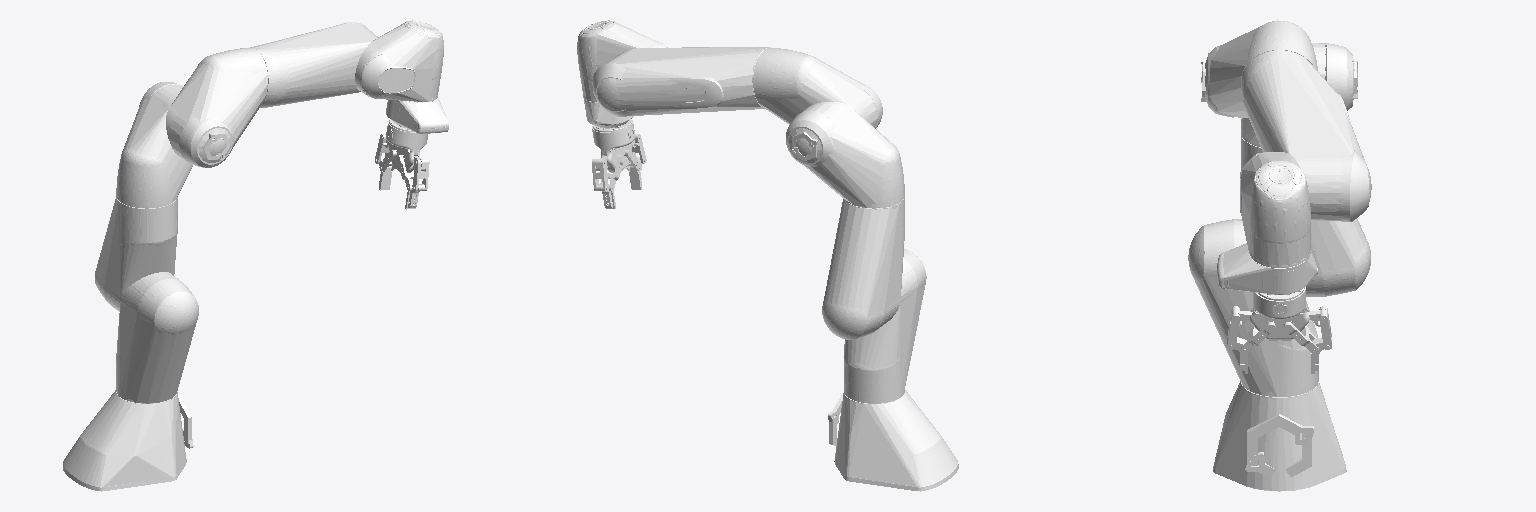
--- Render facts (derived) ---
Views: 3 orthographic renders of the robot side by side, from view 1: azimuth 30°, elevation 25°; view 2: azimuth 150°, elevation 25°; view 3: azimuth 270°, elevation 25°.
Model converted_robot with 29 links and 28 joints (7 revolute, 21 fixed), rooted at panda0_link0, posed joints at zero except 1 at the middle of their limits (panda0_joint4 = -1.74).
Links seen in each view (by area): view 1: panda0_link0, panda0_link1, panda0_link4, panda0_link5, panda0_link3, panda0_link2, panda0_link6, panda0_link7, robotiq_2f_85; view 2: panda0_link5, panda0_link0, panda0_link2, panda0_link3, panda0_link1, panda0_link4, panda0_link6, robotiq_2f_85, panda0_link7; view 3: panda0_link5, panda0_link0, panda0_link1, panda0_link6, panda0_link4, panda0_link2, panda0_link7, panda0_link3, robotiq_2f_85, robotiq_2f_85_right_driver, robotiq_2f_85_left_driver.
Boxes of the visible links, x1,y1,x2,y2 form: panda0_link0: (63,390,193,491); panda0_link1: (116,272,198,403); panda0_link4: (166,48,267,167); panda0_link5: (250,22,377,107); panda0_link3: (116,82,192,208); panda0_link2: (95,197,177,311); panda0_link6: (355,20,443,101); panda0_link7: (386,98,448,133); robotiq_2f_85: (386,119,427,172); panda0_link5: (592,47,769,116); panda0_link0: (828,390,958,491); panda0_link2: (822,198,904,339); panda0_link3: (786,102,904,208); panda0_link1: (844,249,926,403); panda0_link4: (753,47,882,128); panda0_link6: (577,20,667,101); robotiq_2f_85: (592,119,634,172); panda0_link7: (583,97,633,127); panda0_link5: (1241,50,1371,221); panda0_link0: (1213,381,1346,491); panda0_link1: (1188,219,1318,396); panda0_link6: (1240,152,1310,267); panda0_link4: (1201,20,1317,117); panda0_link2: (1241,136,1370,296); panda0_link7: (1217,243,1317,294); panda0_link3: (1241,43,1357,146); robotiq_2f_85: (1250,287,1309,340); robotiq_2f_85_right_driver: (1227,306,1252,349); robotiq_2f_85_left_driver: (1307,306,1331,349).
Bounding box of the posed robot: 0.7638 × 0.2593 × 0.7695 m (x, y, z).
35 mesh visuals loaded from 27 distinct referenced files (27 binary STL).

URDF robot description (converted_robot):
<?xml version="1.0" ?>
<robot name="converted_robot">
   <!--generated with mjcf_urdf_simple_converter (https://github.com/Yasu31/mjcf_urdf_simple_converter)-->
   <link name="panda0_link0">
      <inertial>
         <origin xyz="-0.029189765433072147 -0.0008794649788944781 0.0566031915141631" rpy="0.07341050648529257 -1.1999954549116758 3.0813768508296935"/>
         <mass value="2.91242"/>
         <inertia ixx="0.012252747599100987" iyy="0.011363973543842151" izz="0.008277853958097102" ixy="0" ixz="0" iyz="0"/>
      </inertial>
      <visual name="link0_viz">
         <origin xyz="-0.021984847396766805 -0.0008896593739903566 0.05397633820753746" rpy="0.0005388346167558566 -1.2165331197244809 -3.1263967787637412"/>
         <geometry>
            <mesh filename="../panda_meshes/converted_link0_viz.stl"/>
         </geometry>
         <material name="white"/>
      </visual>
      <visual name="link0_col">
         <origin xyz="-0.029189765433072147 -0.0008794649788944781 0.0566031915141631" rpy="0.07341050648529257 -1.1999954549116756 3.0813768508296935"/>
         <geometry>
            <mesh filename="../panda_meshes/converted_link0_col.stl"/>
         </geometry>
         <material name="white"/>
      </visual>
   </link>
   <link name="panda0_link1">
      <inertial>
         <origin xyz="1.139898131675401e-05 -0.03126552803743275 -0.06937330598619522" rpy="0.3507575596779383 -0.00032182734340535646 0.0006491282822314315"/>
         <mass value="2.7063"/>
         <inertia ixx="0.016028532125252317" iyy="0.015027567082764292" izz="0.0053318324257230895" ixy="0" ixz="0" iyz="0"/>
      </inertial>
      <visual name="link1_viz">
         <origin xyz="2.2333099850851852e-06 -0.03247938383820199 -0.06757587010715757" rpy="0.38337047278479996 0.00013917529691687136 -0.00037583015721226465"/>
         <geometry>
            <mesh filename="../panda_meshes/converted_link1_viz.stl"/>
         </geometry>
         <material name="white"/>
      </visual>
      <visual name="link1_col">
         <origin xyz="1.139898131675401e-05 -0.03126552803743275 -0.06937330598619522" rpy="0.3507575596779383 -0.00032182734340535646 0.0006491282822314315"/>
         <geometry>
            <mesh filename="../panda_meshes/converted_link1_col.stl"/>
         </geometry>
         <material name="white"/>
      </visual>
   </link>
   <link name="panda0_joint1_jointbody">
      <inertial>
         <origin xyz="0.0 0.0 0.0" rpy="0.0 0.0 0.0"/>
         <mass value="0.001"/>
         <inertia ixx="1e-09" iyy="1e-09" izz="1e-09" ixy="0" ixz="0" iyz="0"/>
      </inertial>
   </link>
   <joint type="revolute" name="panda0_joint1">
      <parent link="panda0_link0"/>
      <child link="panda0_joint1_jointbody"/>
      <origin xyz="0.0 0.0 0.333" rpy="0.0 0.0 0.0"/>
      <axis xyz="0.0 0.0 1.0"/>
      <limit lower="-2.8973" upper="2.8973" effort="87" velocity="2.1750"/>
   </joint>
   <joint type="fixed" name="panda0_joint1_offset">
      <parent link="panda0_joint1_jointbody"/>
      <child link="panda0_link1"/>
      <origin xyz="-0.0 -0.0 -0.0" rpy="0.0 0.0 0.0"/>
   </joint>
   <link name="panda0_link2">
      <inertial>
         <origin xyz="-1.3176553398219796e-05 -0.07032155252075616 0.031178239145109848" rpy="1.9167766250212852 3.863386533176083e-05 -0.00017520097652501398"/>
         <mass value="2.73046"/>
         <inertia ixx="0.016372443569979776" iyy="0.015352789885543734" izz="0.005393701000602283" ixy="0" ixz="0" iyz="0"/>
      </inertial>
      <visual name="link2_viz">
         <origin xyz="3.0683216894497734e-06 -0.06860273544627478 0.03220972526329134" rpy="1.9510753664554936 -0.0003840755309343358 -0.00012992900913055827"/>
         <geometry>
            <mesh filename="../panda_meshes/converted_link2_viz.stl"/>
         </geometry>
         <material name="white"/>
      </visual>
      <visual name="link2_col">
         <origin xyz="-1.3176553398219796e-05 -0.07032155252075616 0.031178239145109848" rpy="1.9167766250212854 3.8633865331982875e-05 -0.00017520097652501398"/>
         <geometry>
            <mesh filename="../panda_meshes/converted_link2_col.stl"/>
         </geometry>
         <material name="white"/>
      </visual>
   </link>
   <link name="panda0_joint2_jointbody">
      <inertial>
         <origin xyz="0.0 0.0 0.0" rpy="0.0 0.0 0.0"/>
         <mass value="0.001"/>
         <inertia ixx="1e-09" iyy="1e-09" izz="1e-09" ixy="0" ixz="0" iyz="0"/>
      </inertial>
   </link>
   <joint type="revolute" name="panda0_joint2">
      <parent link="panda0_link1"/>
      <child link="panda0_joint2_jointbody"/>
      <origin xyz="0.0 0.0 0.0" rpy="-1.5707963267948957 0.0 0.0"/>
      <axis xyz="0.0 0.0 1.0"/>
      <limit lower="-1.7628" upper="1.7628" effort="87" velocity="2.1750"/>
   </joint>
   <joint type="fixed" name="panda0_joint2_offset">
      <parent link="panda0_joint2_jointbody"/>
      <child link="panda0_link2"/>
      <origin xyz="-0.0 -0.0 -0.0" rpy="0.0 0.0 0.0"/>
   </joint>
   <link name="panda0_link3">
      <inertial>
         <origin xyz="0.04434830616977217 0.02492832585533832 -0.038129984535498415" rpy="0.6264281539686369 -0.6489124028865899 2.7888150643653677"/>
         <mass value="2.04104"/>
         <inertia ixx="0.008704799647862464" iyy="0.008526189975065757" izz="0.003659192966081935" ixy="0" ixz="0" iyz="0"/>
      </inertial>
      <visual name="link3_viz">
         <origin xyz="0.04853890609499807 0.03426551671468284 -0.031158988253545027" rpy="0.5620645638906847 -0.7724060532253757 3.0330843961200182"/>
         <geometry>
            <mesh filename="../panda_meshes/converted_link3_viz.stl"/>
         </geometry>
         <material name="white"/>
      </visual>
      <visual name="link3_dark_viz">
         <origin xyz="0.07826594887105137 0.08142974519737879 -0.00406312503726814" rpy="0.9103914044624806 0.05315688187292977 1.6361660028735399"/>
         <geometry>
            <mesh filename="../panda_meshes/converted_link3_dark_viz.stl"/>
         </geometry>
         <material name="white"/>
      </visual>
      <visual name="link3_col">
         <origin xyz="0.04434830616977217 0.02492832585533832 -0.038129984535498415" rpy="0.6264281539686367 -0.6489124028865898 2.788815064365368"/>
         <geometry>
            <mesh filename="../panda_meshes/converted_link3_col.stl"/>
         </geometry>
         <material name="white"/>
      </visual>
   </link>
   <link name="panda0_joint3_jointbody">
      <inertial>
         <origin xyz="0.0 0.0 0.0" rpy="0.0 0.0 0.0"/>
         <mass value="0.001"/>
         <inertia ixx="1e-09" iyy="1e-09" izz="1e-09" ixy="0" ixz="0" iyz="0"/>
      </inertial>
   </link>
   <joint type="revolute" name="panda0_joint3">
      <parent link="panda0_link2"/>
      <child link="panda0_joint3_jointbody"/>
      <origin xyz="0.0 -0.316 0.0" rpy="1.5707963267948963 0.0 0.0"/>
      <axis xyz="0.0 0.0 1.0"/>
      <limit lower="-2.8973" upper="2.8973" effort="87" velocity="2.1750"/>
   </joint>
   <joint type="fixed" name="panda0_joint3_offset">
      <parent link="panda0_joint3_jointbody"/>
      <child link="panda0_link3"/>
      <origin xyz="-0.0 -0.0 -0.0" rpy="0.0 0.0 0.0"/>
   </joint>
   <link name="panda0_link4">
      <inertial>
         <origin xyz="-0.038550294327056006 0.03952560974766748 0.024716241456280232" rpy="1.1575252530204931 0.36233734062035716 0.6286469250141417"/>
         <mass value="2.08129"/>
         <inertia ixx="0.009006880847790886" iyy="0.008831790803553114" izz="0.0037733476177690558" ixy="0" ixz="0" iyz="0"/>
      </inertial>
      <visual name="link4_viz">
         <origin xyz="-0.034582874588439914 0.03234212044021938 0.033850654593722634" rpy="1.0871199462729406 0.12778884236414356 0.7368487765625511"/>
         <geometry>
            <mesh filename="../panda_meshes/converted_link4_viz.stl"/>
         </geometry>
         <material name="white"/>
      </visual>
      <visual name="link4_dark_viz">
         <origin xyz="-0.005059102785114565 0.004050337360715577 0.08043076246399442" rpy="0.017273021275597378 -1.4866930441457151 2.4623856789347984"/>
         <geometry>
            <mesh filename="../panda_meshes/converted_link4_dark_viz.stl"/>
         </geometry>
         <material name="white"/>
      </visual>
      <visual name="link4_col">
         <origin xyz="-0.038550294327056006 0.03952560974766748 0.024716241456280232" rpy="1.1575252530204934 0.36233734062035716 0.6286469250141418"/>
         <geometry>
            <mesh filename="../panda_meshes/converted_link4_col.stl"/>
         </geometry>
         <material name="white"/>
      </visual>
   </link>
   <link name="panda0_joint4_jointbody">
      <inertial>
         <origin xyz="0.0 0.0 0.0" rpy="0.0 0.0 0.0"/>
         <mass value="0.001"/>
         <inertia ixx="1e-09" iyy="1e-09" izz="1e-09" ixy="0" ixz="0" iyz="0"/>
      </inertial>
   </link>
   <joint type="revolute" name="panda0_joint4">
      <parent link="panda0_link3"/>
      <child link="panda0_joint4_jointbody"/>
      <origin xyz="0.0825 0.0 0.0" rpy="1.5707963267948963 0.0 0.0"/>
      <axis xyz="0.0 0.0 1.0"/>
      <limit lower="-3.0718" upper="-0.4" effort="87" velocity="2.1750"/>
   </joint>
   <joint type="fixed" name="panda0_joint4_offset">
      <parent link="panda0_joint4_jointbody"/>
      <child link="panda0_link4"/>
      <origin xyz="-0.0 -0.0 -0.0" rpy="0.0 0.0 0.0"/>
   </joint>
   <link name="panda0_link5">
      <inertial>
         <origin xyz="-6.367762704756645e-05 0.03841237270479223 -0.10997017500559451" rpy="-0.27197776604413226 0.0020967099799318323 0.0011148540412214414"/>
         <mass value="3.00049"/>
         <inertia ixx="0.02618581046633134" iyy="0.02524217285800852" izz="0.005348180896198652" ixy="0" ixz="0" iyz="0"/>
      </inertial>
      <visual name="link5_viz">
         <origin xyz="-4.666435241145311e-05 0.052776968679302275 -0.09842004873748064" rpy="-0.2898827389028237 0.0013934871359873036 0.004714140157746488"/>
         <geometry>
            <mesh filename="../panda_meshes/converted_link5_viz.stl"/>
         </geometry>
         <material name="white"/>
      </visual>
      <visual name="link5_dark_viz">
         <origin xyz="-0.0001488770396455637 0.09673623430592755 -0.033143402548721564" rpy="0.0024935213048430382 0.0495754496836307 1.5665339126678446"/>
         <geometry>
            <mesh filename="../panda_meshes/converted_link5_dark_viz.stl"/>
         </geometry>
         <material name="white"/>
      </visual>
      <visual name="link5_col">
         <origin xyz="-6.367762704756645e-05 0.03841237270479223 -0.10997017500559451" rpy="-0.27197776604413215 0.0020967099799316102 0.0011148540412214136"/>
         <geometry>
            <mesh filename="../panda_meshes/converted_link5_col.stl"/>
         </geometry>
         <material name="white"/>
      </visual>
   </link>
   <link name="panda0_joint5_jointbody">
      <inertial>
         <origin xyz="0.0 0.0 0.0" rpy="0.0 0.0 0.0"/>
         <mass value="0.001"/>
         <inertia ixx="1e-09" iyy="1e-09" izz="1e-09" ixy="0" ixz="0" iyz="0"/>
      </inertial>
   </link>
   <joint type="revolute" name="panda0_joint5">
      <parent link="panda0_link4"/>
      <child link="panda0_joint5_jointbody"/>
      <origin xyz="-0.0825 0.384 0.0" rpy="-1.5707963267948957 0.0 0.0"/>
      <axis xyz="0.0 0.0 1.0"/>
      <limit lower="-2.8973" upper="2.8973" effort="12" velocity="2.6100"/>
   </joint>
   <joint type="fixed" name="panda0_joint5_offset">
      <parent link="panda0_joint5_jointbody"/>
      <child link="panda0_link5"/>
      <origin xyz="-0.0 -0.0 -0.0" rpy="0.0 0.0 0.0"/>
   </joint>
   <link name="panda0_link6">
      <inertial>
         <origin xyz="0.05100229436563991 0.00693267296652053 0.006168993350723507" rpy="-3.0615998737983494 -1.4277689715854653 0.04852070640740158"/>
         <mass value="1.3235"/>
         <inertia ixx="0.004018128712601542" iyy="0.0032851446119434107" izz="0.0020794507936098493" ixy="0" ixz="0" iyz="0"/>
      </inertial>
      <visual name="link6_viz">
         <origin xyz="0.05225810515193972 0.006880303416204388 0.008534384591949348" rpy="-3.069238024326488 -1.361132407610263 0.07945352484196389"/>
         <geometry>
            <mesh filename="../panda_meshes/converted_link6_viz.stl"/>
         </geometry>
         <material name="white"/>
      </visual>
      <visual name="link6_dark_viz">
         <origin xyz="0.04452175313348117 0.03310736130263862 0.022291914090851093" rpy="2.4222242876475013 -1.142765253857969 1.4465912259522415"/>
         <geometry>
            <mesh filename="../panda_meshes/converted_link6_dark_viz.stl"/>
         </geometry>
         <material name="white"/>
      </visual>
      <visual name="link6_col">
         <origin xyz="0.05100229436563991 0.00693267296652053 0.006168993350723507" rpy="-3.0615998737983494 -1.4277689715854653 0.04852070640740158"/>
         <geometry>
            <mesh filename="../panda_meshes/converted_link6_col.stl"/>
         </geometry>
         <material name="white"/>
      </visual>
   </link>
   <link name="panda0_joint6_jointbody">
      <inertial>
         <origin xyz="0.0 0.0 0.0" rpy="0.0 0.0 0.0"/>
         <mass value="0.001"/>
         <inertia ixx="1e-09" iyy="1e-09" izz="1e-09" ixy="0" ixz="0" iyz="0"/>
      </inertial>
   </link>
   <joint type="revolute" name="panda0_joint6">
      <parent link="panda0_link5"/>
      <child link="panda0_joint6_jointbody"/>
      <origin xyz="0.0 0.0 0.0" rpy="0.7853981633974483 -1.569670612918126 0.7853981633974483"/>
      <axis xyz="0.0 0.0 1.0"/>
      <limit lower="-1.6573" upper="2.1127" effort="12" velocity="2.6100"/>
   </joint>
   <joint type="fixed" name="panda0_joint6_offset">
      <parent link="panda0_joint6_jointbody"/>
      <child link="panda0_link6"/>
      <origin xyz="-0.0 -0.0 -0.0" rpy="0.0 0.0 0.0"/>
   </joint>
   <link name="panda0_link7">
      <inertial>
         <origin xyz="0.010361372115882629 0.010359603871236887 0.07910777287138845" rpy="3.138032285623005 -1.5171405401134985 -2.3520385516245224"/>
         <mass value="0.2"/>
         <inertia ixx="0.0003055845143865651" iyy="0.00025305457597797404" izz="0.00013397897780101473" ixy="0" ixz="0" iyz="0"/>
      </inertial>
      <visual name="link7_viz">
         <origin xyz="0.009733988117508616 0.009872670539790454 0.07875925516057704" rpy="-0.13338769587534194 -1.5230739991879987 -2.2265071063078636"/>
         <geometry>
            <mesh filename="../panda_meshes/converted_link7_viz.stl"/>
         </geometry>
         <material name="white"/>
      </visual>
      <visual name="link7_dark_viz">
         <origin xyz="0.042070756210377716 0.04213157284030423 0.08206855384772965" rpy="-1.5780280770386714 -1.3502633071313788 -2.3564758506473975"/>
         <geometry>
            <mesh filename="../panda_meshes/converted_link7_dark_viz.stl"/>
         </geometry>
         <material name="white"/>
      </visual>
      <visual name="link7_col">
         <origin xyz="0.010361372115882629 0.010359603871236887 0.07910777287138845" rpy="3.138032285623005 -1.5171405401134985 -2.3520385516245224"/>
         <geometry>
            <mesh filename="../panda_meshes/converted_link7_col.stl"/>
         </geometry>
         <material name="white"/>
      </visual>
   </link>
   <link name="panda0_joint7_jointbody">
      <inertial>
         <origin xyz="0.0 0.0 0.0" rpy="0.0 0.0 0.0"/>
         <mass value="0.001"/>
         <inertia ixx="1e-09" iyy="1e-09" izz="1e-09" ixy="0" ixz="0" iyz="0"/>
      </inertial>
   </link>
   <joint type="revolute" name="panda0_joint7">
      <parent link="panda0_link6"/>
      <child link="panda0_joint7_jointbody"/>
      <origin xyz="0.088 0.0 0.0" rpy="1.5696709361563443 -0.7853995448785632 0.0007952610088441947"/>
      <axis xyz="0.0 0.0 1.0"/>
      <limit lower="-2.8973" upper="2.8973" effort="12" velocity="2.6100"/>
   </joint>
   <joint type="fixed" name="panda0_joint7_offset">
      <parent link="panda0_joint7_jointbody"/>
      <child link="panda0_link7"/>
      <origin xyz="-0.0 -0.0 -0.0" rpy="0.0 0.0 0.0"/>
   </joint>
   <link name="ee_mount">
      <inertial>
         <origin xyz="0.0 0.0 0.11" rpy="0.0 0.0 -0.7853970066908718"/>
         <mass value="0.0"/>
         <inertia ixx="0.0" iyy="0.0" izz="0.0" ixy="0" ixz="0" iyz="0"/>
      </inertial>
   </link>
   <joint type="fixed" name="panda0_link72ee_mount_fixed">
      <parent link="panda0_link7"/>
      <child link="ee_mount"/>
      <origin xyz="0.0 0.0 0.11" rpy="0.0 0.0 -0.7853970066908718"/>
   </joint>
   <link name="robotiq_2f_85">
      <inertial>
         <origin xyz="2.2899356960443603e-07 -2.1897912859072486e-05 0.03187705344647061" rpy="-0.00220586909417746 -4.7474867137742294e-05 -0.024489885815227545"/>
         <mass value="0.2702422073195035"/>
         <inertia ixx="0.00024541309796528523" iyy="0.00022507216432187272" izz="0.00014451472455530157" ixy="0" ixz="0" iyz="0"/>
      </inertial>
      <visual name="robotiq-2f-base">
         <origin xyz="2.2899356960443603e-07 -2.1897912859072486e-05 0.03187705344647061" rpy="-0.00220586909417746 -4.7474867137742294e-05 -0.02448988581522754"/>
         <geometry>
            <mesh filename="../panda_meshes/converted_robotiq-2f-base.stl"/>
         </geometry>
         <material name="white"/>
      </visual>
      <visual name="robotiq-2f-base">
         <origin xyz="2.2899356960443603e-07 -2.1897912859072486e-05 0.03187705344647061" rpy="-0.00220586909417746 -4.7474867137742294e-05 -0.02448988581522754"/>
         <geometry>
            <mesh filename="../panda_meshes/converted_robotiq-2f-base.stl"/>
         </geometry>
         <material name="white"/>
      </visual>
   </link>
   <joint type="fixed" name="ee_mount2robotiq_2f_85_fixed">
      <parent link="ee_mount"/>
      <child link="robotiq_2f_85"/>
      <origin xyz="0.0 0.0 0.0" rpy="0.0 0.0 0.0"/>
   </joint>
   <link name="robotiq_2f_85_right_driver">
      <inertial>
         <origin xyz="0.0 0.01575 0.05295" rpy="1.4801282888669522 0.0 0.0"/>
         <mass value="0.2"/>
         <inertia ixx="0.00043212" iyy="0.000431866" izz="0.000360253" ixy="0" ixz="0" iyz="0"/>
      </inertial>
      <visual name="robotiq-2f-driver">
         <origin xyz="2.9693095360038857e-12 0.017754693326339378 0.001073141648831213" rpy="1.642515910368616 0.0 0.0"/>
         <geometry>
            <mesh filename="../panda_meshes/converted_robotiq-2f-driver.stl"/>
         </geometry>
         <material name="white"/>
      </visual>
      <visual name="robotiq-2f-coupler">
         <origin xyz="8.458042296975096e-13 0.03451208541474103 0.019117538318615818" rpy="0.0 0.12903875752327765 1.5707963267948966"/>
         <geometry>
            <mesh filename="../panda_meshes/converted_robotiq-2f-coupler.stl"/>
         </geometry>
         <material name="white"/>
      </visual>
      <visual name="robotiq-2f-coupler">
         <origin xyz="8.458042296975096e-13 0.03451208541474103 0.019117538318615818" rpy="0.0 0.12903875752327765 1.5707963267948966"/>
         <geometry>
            <mesh filename="../panda_meshes/converted_robotiq-2f-coupler.stl"/>
         </geometry>
         <material name="white"/>
      </visual>
   </link>
   <link name="robotiq_2f_85_right_driver_joint_jointbody">
      <inertial>
         <origin xyz="0.0 0.0 0.0" rpy="0.0 0.0 0.0"/>
         <mass value="0.001"/>
         <inertia ixx="1e-09" iyy="1e-09" izz="1e-09" ixy="0" ixz="0" iyz="0"/>
      </inertial>
   </link>
   <joint type="fixed" name="robotiq_2f_85_right_driver_joint">
      <parent link="robotiq_2f_85"/>
      <child link="robotiq_2f_85_right_driver_joint_jointbody"/>
      <origin xyz="0.0 0.0306011 0.054904" rpy="0.0 0.0 0.0"/>
      <axis xyz="1.0 0.0 0.0"/>
      <!-- <limit lower="0.0" upper="0.834" effort="100" velocity="100"/> -->
   </joint>
   <joint type="fixed" name="robotiq_2f_85_right_driver_joint_offset">
      <parent link="robotiq_2f_85_right_driver_joint_jointbody"/>
      <child link="robotiq_2f_85_right_driver"/>
      <origin xyz="-0.0 -0.0 -0.0" rpy="0.0 0.0 0.0"/>
   </joint>
   <link name="robotiq_2f_85_right_follower">
      <inertial>
         <origin xyz="0.0 0.0 0.055" rpy="1.5707963267948963 0.0 0.0"/>
         <mass value="0.2"/>
         <inertia ixx="0.000380833" iyy="0.000380833" izz="0.00036" ixy="0" ixz="0" iyz="0"/>
      </inertial>
      <visual name="robotiq-2f-follower">
         <origin xyz="-8.222505669797204e-08 -0.011045964820441189 0.012478641054290796" rpy="0.3343560463823991 1.1571605218474446e-05 4.019967359436549e-06"/>
         <geometry>
            <mesh filename="../panda_meshes/converted_robotiq-2f-follower.stl"/>
         </geometry>
         <material name="white"/>
      </visual>
      <visual name="robotiq-2f-pad">
         <origin xyz="-1.84784573132982e-10 -0.02140252522024533 0.031014528875892945" rpy="0.0 -4.425003626984392e-05 1.5707963267948966"/>
         <geometry>
            <mesh filename="../panda_meshes/converted_robotiq-2f-pad.stl"/>
         </geometry>
         <material name="white"/>
      </visual>
   </link>
   <link name="robotiq_2f_85_right_follower_joint_jointbody">
      <inertial>
         <origin xyz="0.0 0.0 0.0" rpy="0.0 0.0 0.0"/>
         <mass value="0.001"/>
         <inertia ixx="1e-09" iyy="1e-09" izz="1e-09" ixy="0" ixz="0" iyz="0"/>
      </inertial>
   </link>
   <joint type="fixed" name="robotiq_2f_85_right_follower_joint">
      <parent link="robotiq_2f_85_right_driver"/>
      <child link="robotiq_2f_85_right_follower_joint_jointbody"/>
      <origin xyz="0.0 0.0376 0.043" rpy="0.0 0.0 0.0"/>
      <axis xyz="1.0 0.0 0.0"/>
      <!-- <limit lower="-2.96706" upper="2.96706" effort="100" velocity="100"/> -->
   </joint>
   <joint type="fixed" name="robotiq_2f_85_right_follower_joint_offset">
      <parent link="robotiq_2f_85_right_follower_joint_jointbody"/>
      <child link="robotiq_2f_85_right_follower"/>
      <origin xyz="-0.0 -0.0 -0.0" rpy="0.0 0.0 0.0"/>
   </joint>
   <link name="robotiq_2f_85_right_spring_link">
      <inertial>
         <origin xyz="0.0 0.0 0.055" rpy="1.5707963267948963 0.0 0.0"/>
         <mass value="0.1"/>
         <inertia ixx="0.000190833" iyy="0.000190833" izz="0.00018" ixy="0" ixz="0" iyz="0"/>
      </inertial>
      <visual name="robotiq-2f-spring_link">
         <origin xyz="-8.650050113628342e-09 0.018162399838260603 0.021265809871824037" rpy="0.0 0.7068435008139309 1.5707963267948966"/>
         <geometry>
            <mesh filename="../panda_meshes/converted_robotiq-2f-spring_link.stl"/>
         </geometry>
         <material name="white"/>
      </visual>
   </link>
   <link name="robotiq_2f_85_right_spring_link_joint_jointbody">
      <inertial>
         <origin xyz="0.0 0.0 0.0" rpy="0.0 0.0 0.0"/>
         <mass value="0.001"/>
         <inertia ixx="1e-09" iyy="1e-09" izz="1e-09" ixy="0" ixz="0" iyz="0"/>
      </inertial>
   </link>
   <joint type="fixed" name="robotiq_2f_85_right_spring_link_joint">
      <parent link="robotiq_2f_85"/>
      <child link="robotiq_2f_85_right_spring_link_joint_jointbody"/>
      <origin xyz="0.0 0.012 0.0614" rpy="0.0 0.0 0.0"/>
      <axis xyz="1.0 0.0 0.0"/>
      <!-- <limit lower="-2.96706" upper="2.96706" effort="100" velocity="100"/> -->
   </joint>
   <joint type="fixed" name="robotiq_2f_85_right_spring_link_joint_offset">
      <parent link="robotiq_2f_85_right_spring_link_joint_jointbody"/>
      <child link="robotiq_2f_85_right_spring_link"/>
      <origin xyz="-0.0 -0.0 -0.0" rpy="0.0 0.0 0.0"/>
   </joint>
   <link name="robotiq_2f_85_left_driver">
      <inertial>
         <origin xyz="0.0 0.01575 0.05295" rpy="1.4801282888669522 0.0 0.0"/>
         <mass value="0.2"/>
         <inertia ixx="0.00043212" iyy="0.000431866" izz="0.000360253" ixy="0" ixz="0" iyz="0"/>
      </inertial>
      <visual name="robotiq-2f-driver">
         <origin xyz="2.9693095360038857e-12 0.017754693326339378 0.001073141648831213" rpy="1.642515910368616 0.0 0.0"/>
         <geometry>
            <mesh filename="../panda_meshes/converted_robotiq-2f-driver.stl"/>
         </geometry>
         <material name="white"/>
      </visual>
      <visual name="robotiq-2f-coupler">
         <origin xyz="8.458042296975096e-13 0.03451208541474103 0.019117538318615818" rpy="0.0 0.12903875752327765 1.5707963267948966"/>
         <geometry>
            <mesh filename="../panda_meshes/converted_robotiq-2f-coupler.stl"/>
         </geometry>
         <material name="white"/>
      </visual>
      <visual name="robotiq-2f-coupler">
         <origin xyz="8.458042296975096e-13 0.03451208541474103 0.019117538318615818" rpy="0.0 0.12903875752327765 1.5707963267948966"/>
         <geometry>
            <mesh filename="../panda_meshes/converted_robotiq-2f-coupler.stl"/>
         </geometry>
         <material name="white"/>
      </visual>
   </link>
   <link name="robotiq_2f_85_left_driver_joint_jointbody">
      <inertial>
         <origin xyz="0.0 0.0 0.0" rpy="0.0 0.0 0.0"/>
         <mass value="0.001"/>
         <inertia ixx="1e-09" iyy="1e-09" izz="1e-09" ixy="0" ixz="0" iyz="0"/>
      </inertial>
   </link>
   <joint type="fixed" name="robotiq_2f_85_left_driver_joint">
      <parent link="robotiq_2f_85"/>
      <child link="robotiq_2f_85_left_driver_joint_jointbody"/>
      <origin xyz="0.0 -0.0306011 0.054904" rpy="0.0 0.0 3.141592653589793"/>
      <axis xyz="1.0 0.0 0.0"/>
      <!-- <limit lower="0.0" upper="0.834" effort="100" velocity="100"/> -->
   </joint>
   <joint type="fixed" name="robotiq_2f_85_left_driver_joint_offset">
      <parent link="robotiq_2f_85_left_driver_joint_jointbody"/>
      <child link="robotiq_2f_85_left_driver"/>
      <origin xyz="-0.0 -0.0 -0.0" rpy="0.0 0.0 0.0"/>
   </joint>
   <link name="robotiq_2f_85_left_follower">
      <inertial>
         <origin xyz="0.0 0.0 0.055" rpy="1.5707963267948963 0.0 0.0"/>
         <mass value="0.2"/>
         <inertia ixx="0.000380833" iyy="0.000380833" izz="0.00036" ixy="0" ixz="0" iyz="0"/>
      </inertial>
      <visual name="robotiq-2f-follower">
         <origin xyz="-8.222505669797204e-08 -0.011045964820441189 0.012478641054290796" rpy="0.3343560463823991 1.1571605218474446e-05 4.019967359436549e-06"/>
         <geometry>
            <mesh filename="../panda_meshes/converted_robotiq-2f-follower.stl"/>
         </geometry>
         <material name="white"/>
      </visual>
      <visual name="robotiq-2f-pad">
         <origin xyz="-1.84784573132982e-10 -0.02140252522024533 0.031014528875892945" rpy="0.0 -4.425003626984392e-05 1.5707963267948966"/>
         <geometry>
            <mesh filename="../panda_meshes/converted_robotiq-2f-pad.stl"/>
         </geometry>
         <material name="white"/>
      </visual>
   </link>
   <link name="robotiq_2f_85_left_follower_joint_jointbody">
      <inertial>
         <origin xyz="0.0 0.0 0.0" rpy="0.0 0.0 0.0"/>
         <mass value="0.001"/>
         <inertia ixx="1e-09" iyy="1e-09" izz="1e-09" ixy="0" ixz="0" iyz="0"/>
      </inertial>
   </link>
   <joint type="fixed" name="robotiq_2f_85_left_follower_joint">
      <parent link="robotiq_2f_85_left_driver"/>
      <child link="robotiq_2f_85_left_follower_joint_jointbody"/>
      <origin xyz="0.0 0.0376 0.043" rpy="0.0 0.0 0.0"/>
      <axis xyz="1.0 0.0 0.0"/>
      <!-- <limit lower="-2.96706" upper="2.96706" effort="100" velocity="100"/> -->
   </joint>
   <joint type="fixed" name="robotiq_2f_85_left_follower_joint_offset">
      <parent link="robotiq_2f_85_left_follower_joint_jointbody"/>
      <child link="robotiq_2f_85_left_follower"/>
      <origin xyz="-0.0 -0.0 -0.0" rpy="0.0 0.0 0.0"/>
   </joint>
   <link name="robotiq_2f_85_left_spring_link">
      <inertial>
         <origin xyz="0.0 0.0 0.055" rpy="1.5707963267948963 0.0 0.0"/>
         <mass value="0.1"/>
         <inertia ixx="0.000190833" iyy="0.000190833" izz="0.00018" ixy="0" ixz="0" iyz="0"/>
      </inertial>
      <visual name="robotiq-2f-spring_link">
         <origin xyz="-8.650050113628342e-09 0.018162399838260603 0.021265809871824037" rpy="0.0 0.7068435008139309 1.5707963267948966"/>
         <geometry>
            <mesh filename="../panda_meshes/converted_robotiq-2f-spring_link.stl"/>
         </geometry>
         <material name="white"/>
      </visual>
   </link>
   <link name="robotiq_2f_85_left_spring_link_joint_jointbody">
      <inertial>
         <origin xyz="0.0 0.0 0.0" rpy="0.0 0.0 0.0"/>
         <mass value="0.001"/>
         <inertia ixx="1e-09" iyy="1e-09" izz="1e-09" ixy="0" ixz="0" iyz="0"/>
      </inertial>
   </link>
   <joint type="fixed" name="robotiq_2f_85_left_spring_link_joint">
      <parent link="robotiq_2f_85"/>
      <child link="robotiq_2f_85_left_spring_link_joint_jointbody"/>
      <origin xyz="0.0 -0.012 0.0614" rpy="0.0 0.0 3.141592653589793"/>
      <axis xyz="1.0 0.0 0.0"/>
      <!-- <limit lower="-2.96706" upper="2.96706" effort="100" velocity="100"/> -->
   </joint>
   <joint type="fixed" name="robotiq_2f_85_left_spring_link_joint_offset">
      <parent link="robotiq_2f_85_left_spring_link_joint_jointbody"/>
      <child link="robotiq_2f_85_left_spring_link"/>
      <origin xyz="-0.0 -0.0 -0.0" rpy="0.0 0.0 0.0"/>
   </joint>
   <material name="white">
      <color rgba="1 1 1 1"/>
   </material>
</robot>
